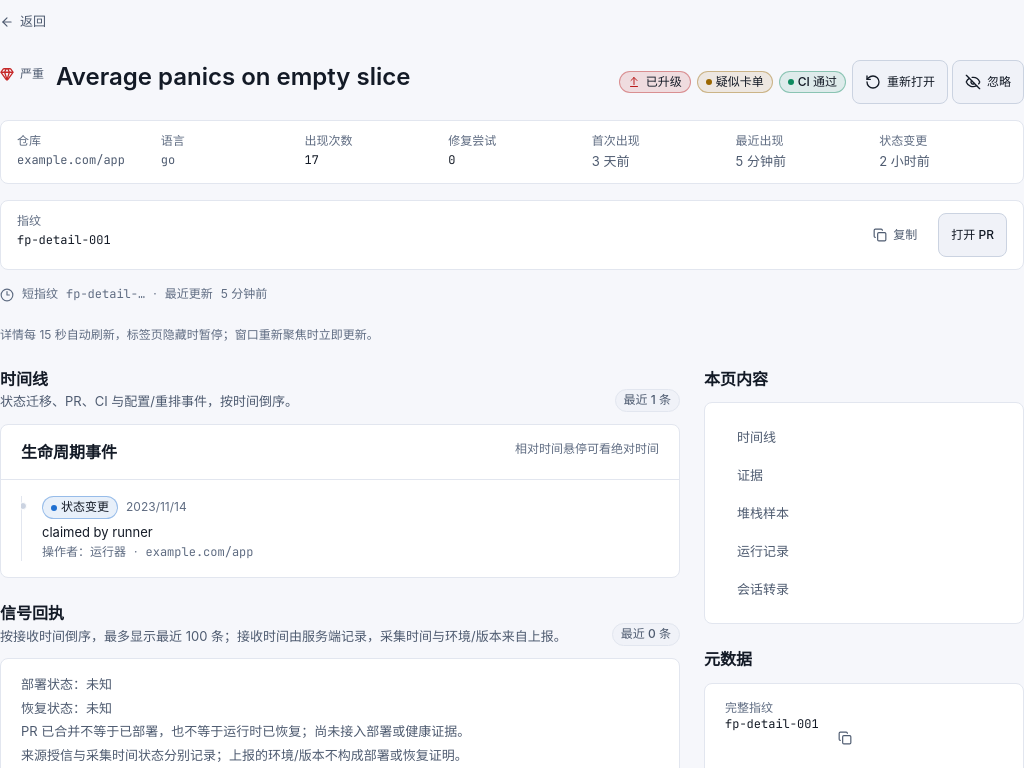
Test: IssueDetailPage › reopens an escalated issue from the header
This screenshot has width=1024, height=768.
Step 1. Click the button with aria-label "重新打开：fp-detail-…" → (900, 82), box [852,60,948,104]
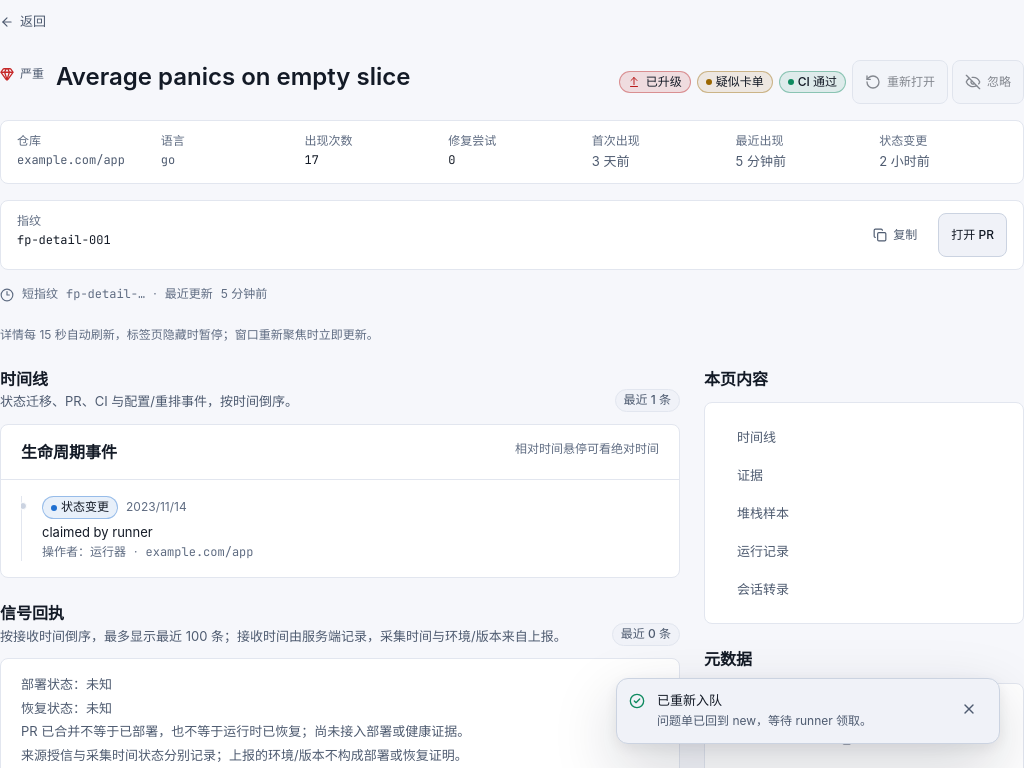
Now the text "已重新入队" is shown, box [657,692,722,708]
